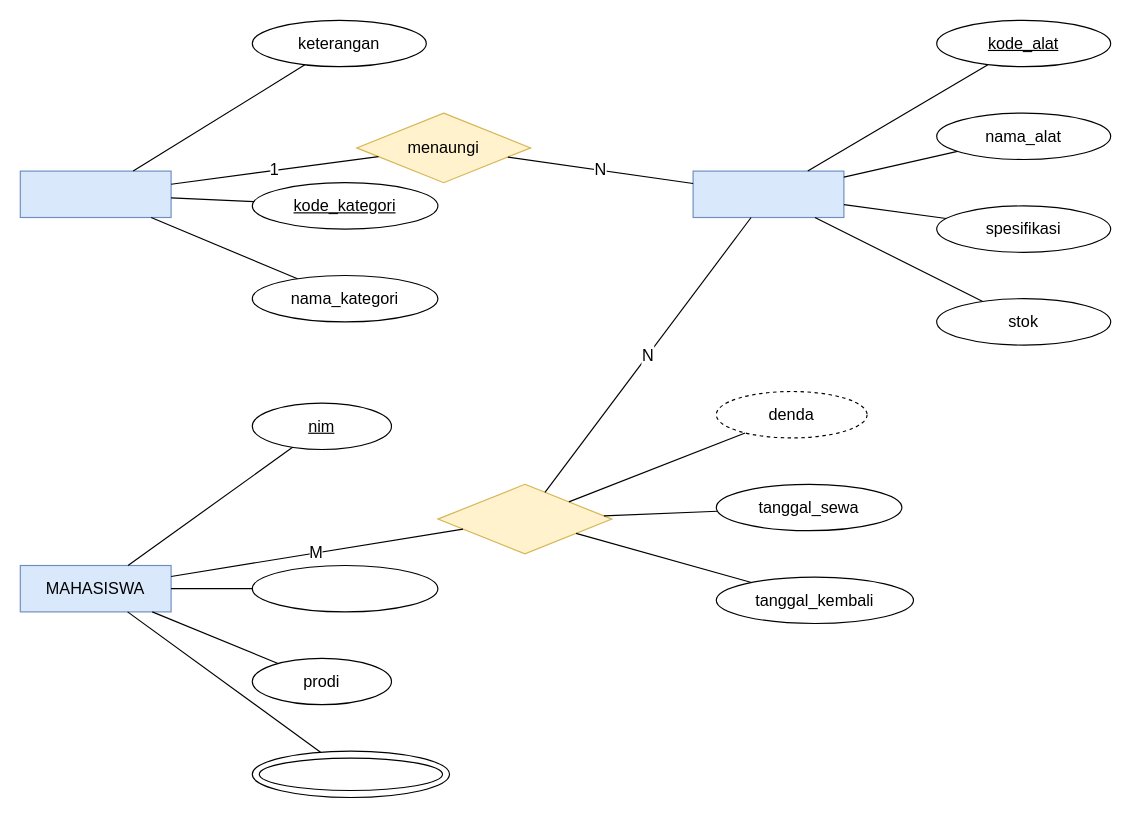
This 1131x818 diagram has some shape labels left out. Each missing label, with the box of its shape:
ALAT_LAB: (692, 170, 844, 217)
KATEGORI: (19, 170, 171, 217)
menyewa: (437, 483, 612, 554)
nama_lengkap: (251, 564, 438, 612)
nomor_telepon: (251, 750, 449, 798)
